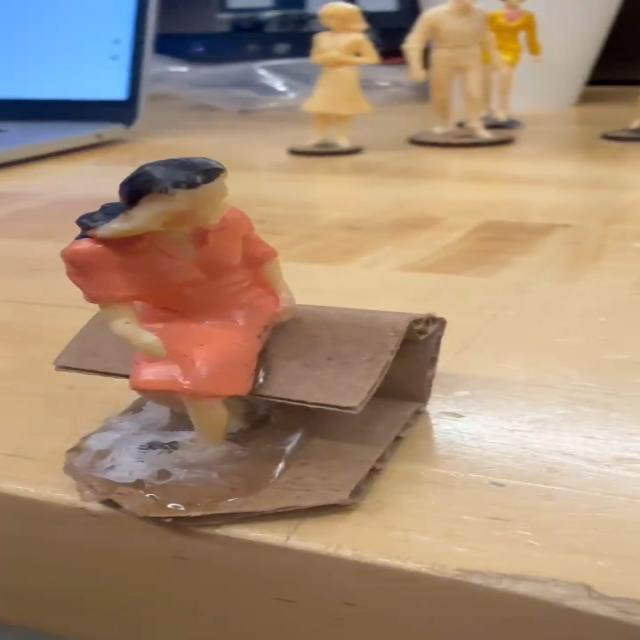Authorized: (0, 142, 469, 554)
